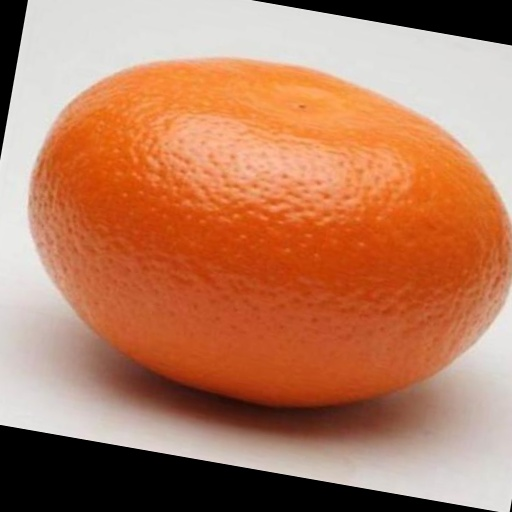fruit: (30, 59, 512, 406)
